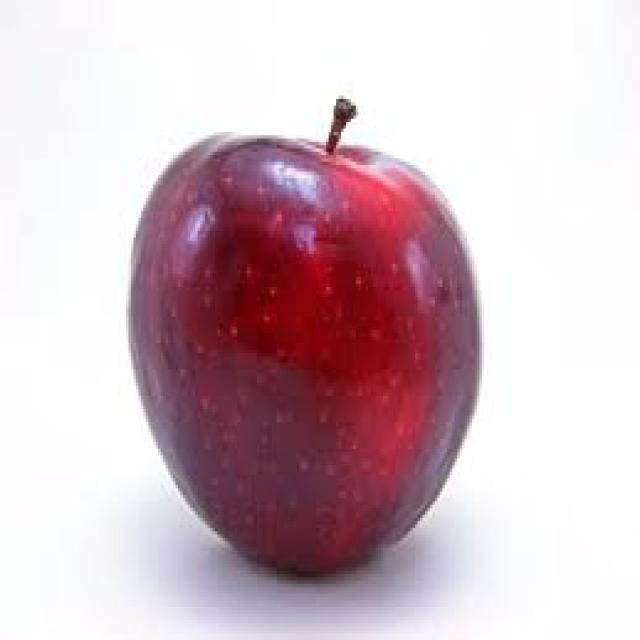Apple: (111, 75, 512, 600)
